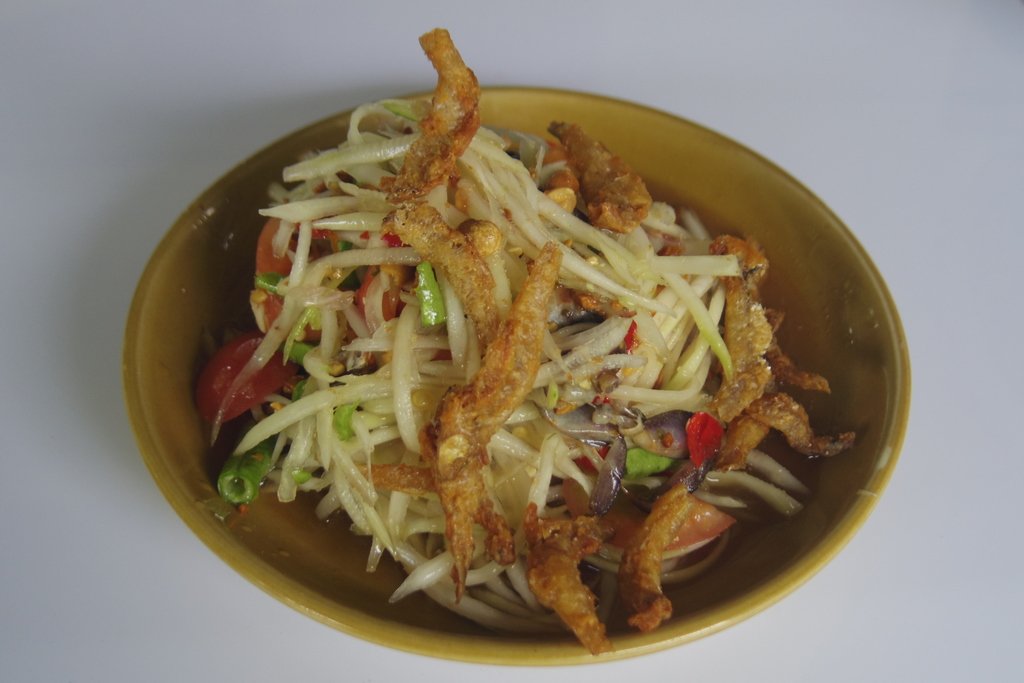salad: (186, 64, 828, 649)
